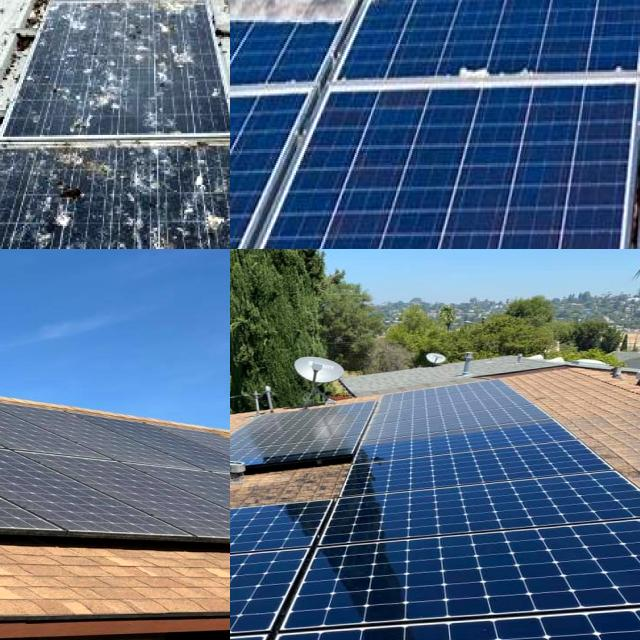bird: (52, 48, 147, 118), (18, 170, 98, 238), (162, 47, 208, 122), (184, 176, 230, 224), (0, 153, 25, 222), (58, 2, 105, 37)
crack: (298, 531, 640, 640), (300, 458, 640, 551), (319, 431, 640, 491), (230, 543, 391, 640), (230, 503, 397, 571)
dust: (0, 456, 156, 515), (0, 441, 108, 510)
panel: (400, 0, 532, 52), (449, 0, 573, 43), (343, 0, 451, 36), (246, 0, 359, 28), (445, 50, 510, 98), (303, 0, 380, 40), (230, 0, 294, 47), (502, 0, 572, 37), (343, 0, 407, 32), (261, 0, 321, 29), (230, 0, 267, 33), (230, 0, 268, 32), (230, 0, 275, 25), (230, 0, 273, 24), (230, 0, 259, 29), (614, 0, 640, 27), (230, 0, 260, 19)
